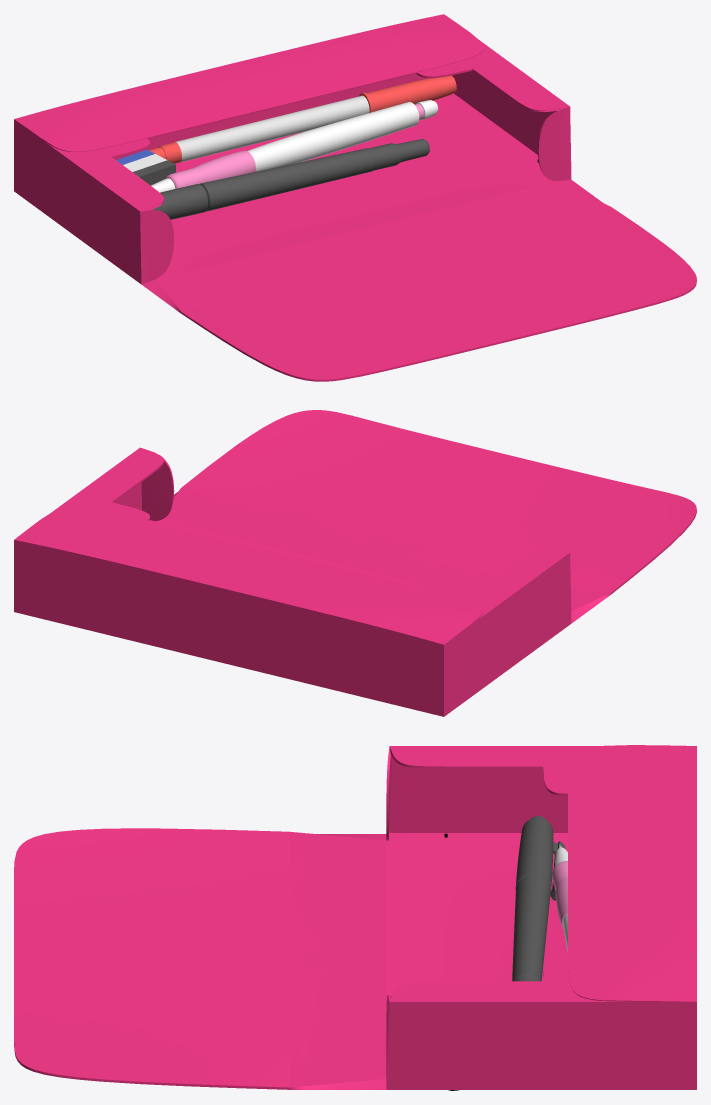
The model's file is 262_ペンケース中身あり.glb.
3 renders of one model, top to bottom at view 1: azimuth 30°, elevation 25°; view 2: azimuth 150°, elevation 25°; view 3: azimuth 270°, elevation 25°, orthographic. The views are drawn at different scales.
Parts seen in each view (by area): view 1: Body.001, Body3.001, Body4, 192_ボールペン(キャップ式), キャップ, 太キャップ, 消しゴム, 細キャップ; view 2: Body.001; view 3: Body.001, Body4, 太キャップ, Body3.001.
Boxes of the visible parts, x1=… form: Body.001: x1=14, y1=14, x2=696, y2=381; Body3.001: x1=151, y1=100, x2=438, y2=192; Body4: x1=200, y1=148, x2=374, y2=211; 192_ボールペン(キャップ式): x1=122, y1=95, x2=369, y2=163; キャップ: x1=359, y1=75, x2=456, y2=112; 太キャップ: x1=152, y1=184, x2=208, y2=219; 消しゴム: x1=116, y1=149, x2=175, y2=185; 細キャップ: x1=368, y1=139, x2=429, y2=170; Body.001: x1=14, y1=410, x2=696, y2=716; Body.001: x1=14, y1=745, x2=696, y2=1090; Body4: x1=512, y1=875, x2=550, y2=981; 太キャップ: x1=515, y1=816, x2=565, y2=900; Body3.001: x1=552, y1=844, x2=567, y2=951.
Size of the model in its own units: 0.187 by 0.0355 by 0.211.
